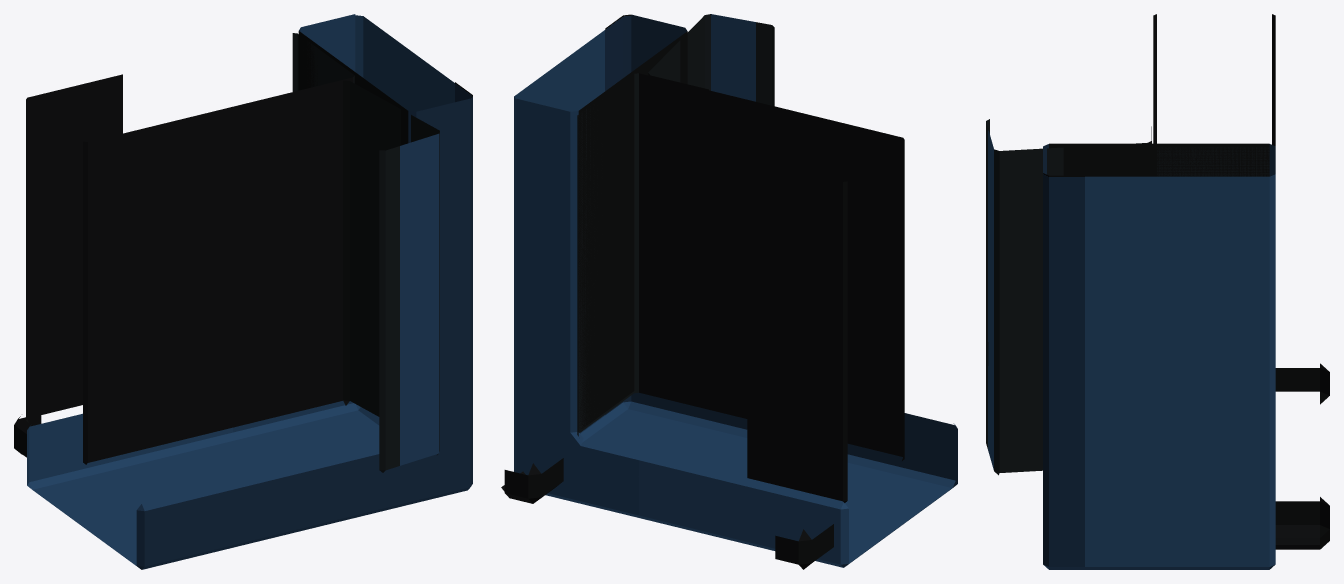
3 views of the same model, side by side, from view 1: azimuth 30°, elevation 25°; view 2: azimuth 150°, elevation 25°; view 3: azimuth 270°, elevation 25° (orthographic).
Size of the model in its own units: 0.8619 by 0.9652 by 0.7579.
